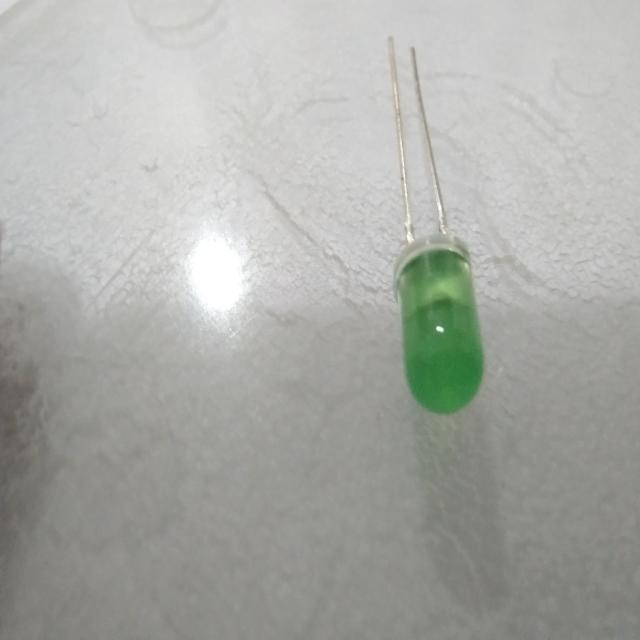green_led: (380, 224, 502, 427)
